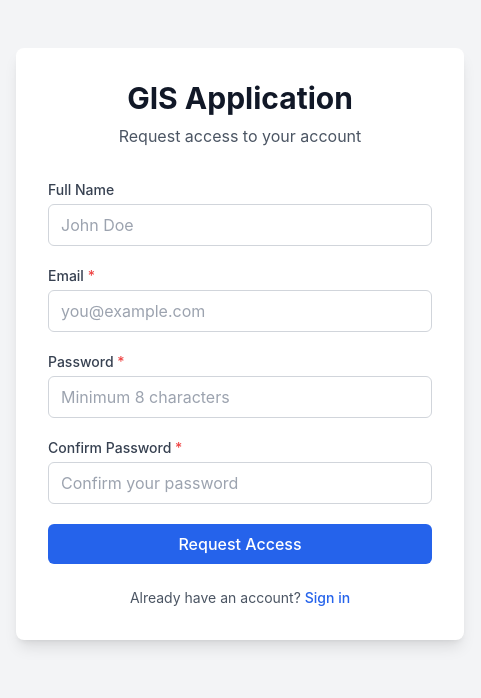
it: RegisterPage › should block submit when full name is empty
Step 1. Type "test@example.com" into the field labelled "Email *" → (240,311), box left=48, top=290, right=432, bottom=332
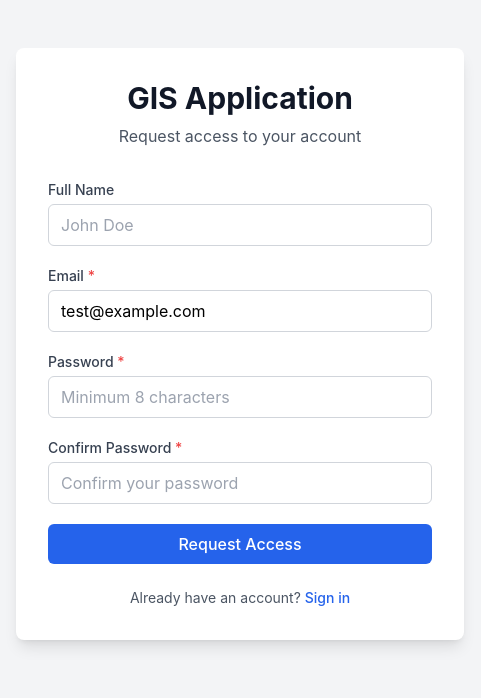
Step 2. Type "password123" into the password field labelled "Password *" → (240,397), box left=48, top=376, right=432, bottom=418
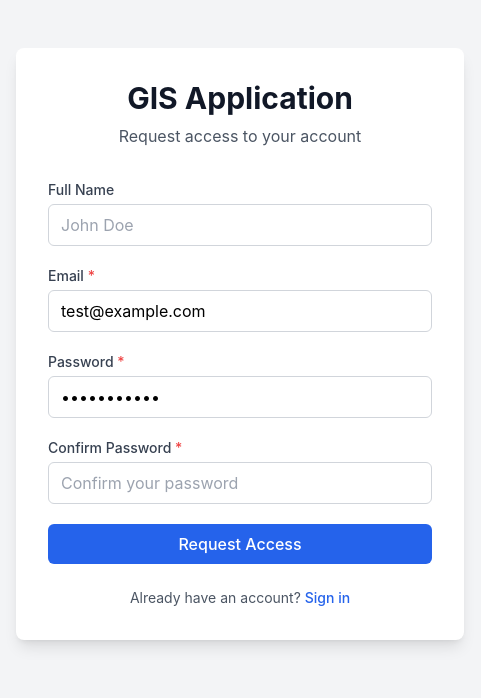
Step 3. Type "password123" into the password field labelled "Confirm Password *" → (240,483), box left=48, top=462, right=432, bottom=504
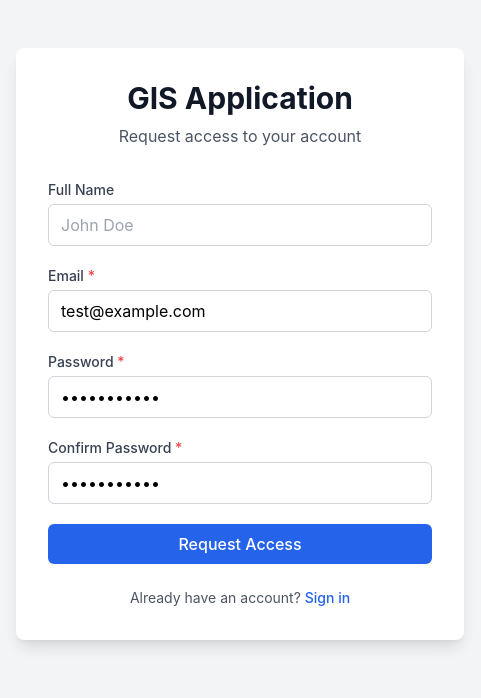
Step 4. Submit the form "Request Access", box left=48, top=180, right=432, bottom=564
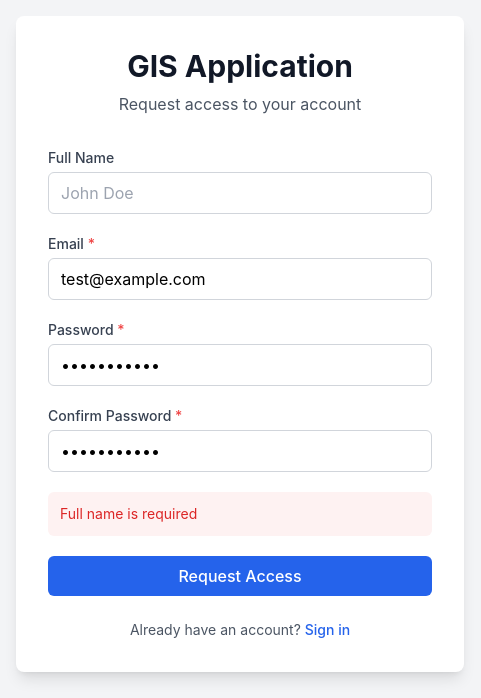
Expected: the text "Full name is required" is shown, left=48, top=492, right=432, bottom=536
